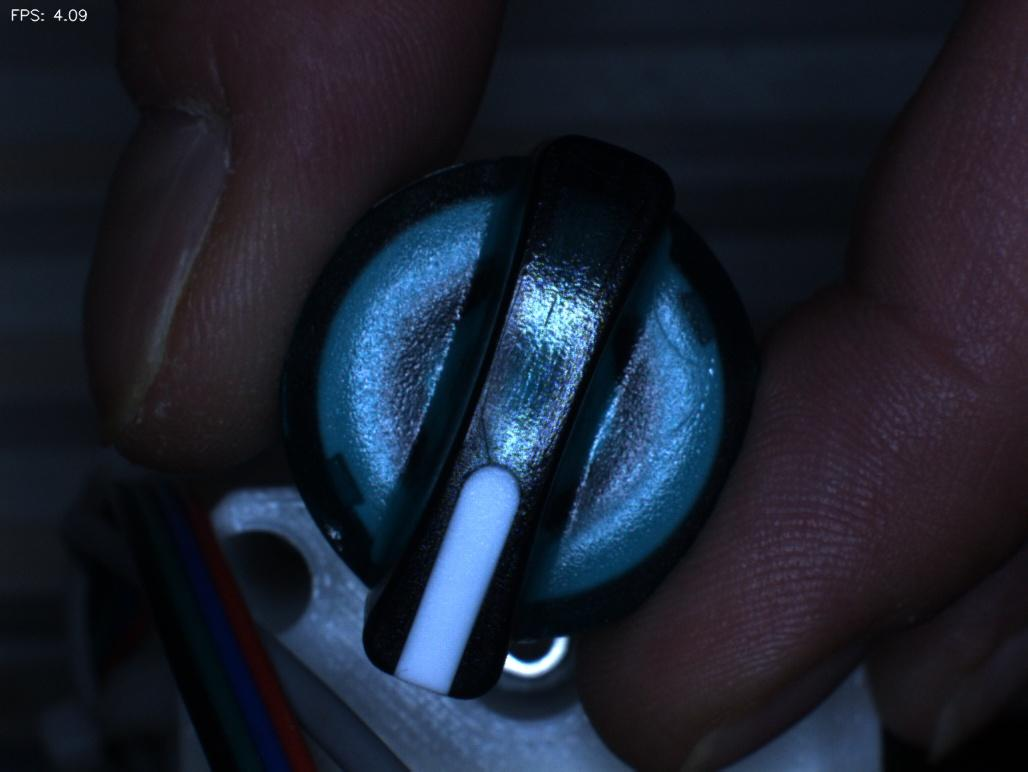Choc: (283, 501, 372, 584)
